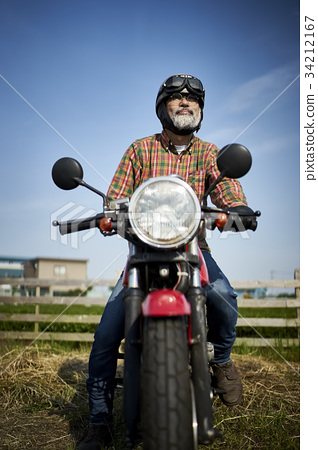helmet: (147, 71, 212, 111)
